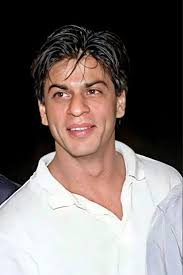Human_Male: (28, 30, 131, 275)
